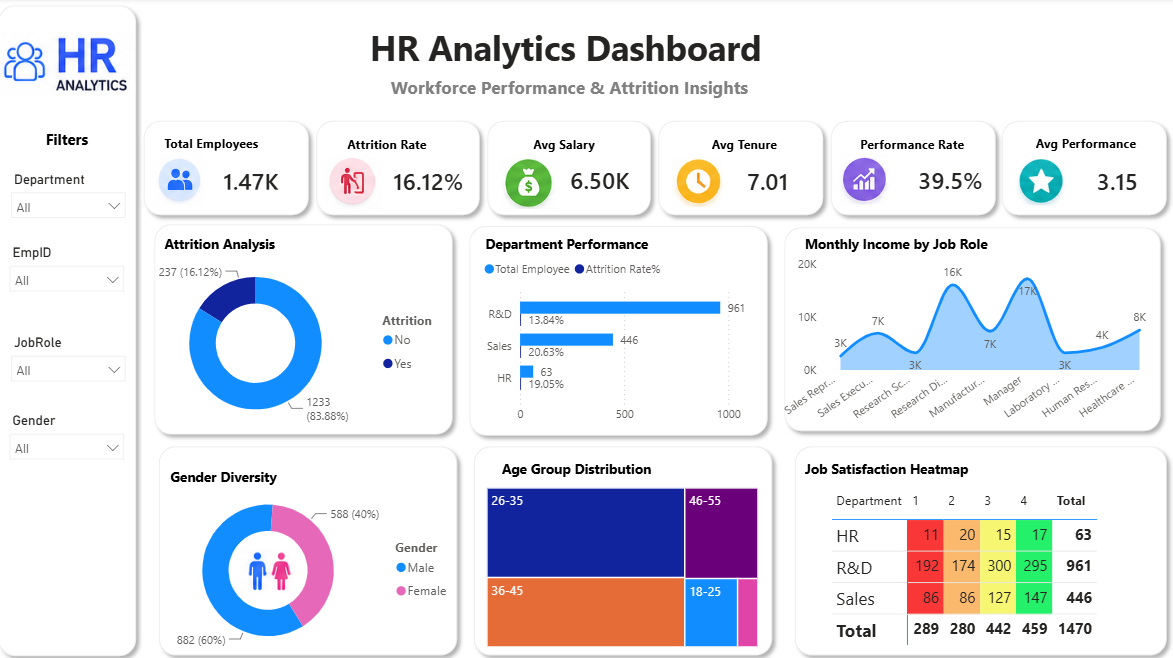

This screenshot's page, from the dashboard's own definition file:
{"tool":"powerbi","page":{"name":"Page 1","canvas":[1280,720],"ordinal":0},"visuals":[{"type":"shape","box":[0,0,166.8,720.6],"z":0},{"type":"textbox","box":[404.7,24.6,470.6,73.7],"z":1000},{"type":"textbox","box":[427.4,79.4,425.2,45.4],"z":2000},{"type":"shape","box":[157.1,124.7,195.9,119.8],"z":3000},{"type":"shape","box":[343.3,124.7,194.3,119.8],"z":4000},{"type":"shape","box":[527.9,124.7,194.3,119.8],"z":5000},{"type":"shape","box":[712.5,124.7,195.9,119.8],"z":6000},{"type":"shape","box":[898.7,124.7,195.9,119.8],"z":7000},{"type":"shape","box":[1084.1,124.7,195.9,119.8],"z":8000},{"type":"textbox","box":[183.3,141.7,117.2,28.3],"z":9000},{"type":"textbox","box":[380.5,144.1,118.2,29.1],"z":10000},{"type":"textbox","box":[581.3,144.1,116.6,29.1],"z":11000},{"type":"textbox","box":[774,144.1,118.2,29.1],"z":12000},{"type":"textbox","box":[1123.7,142.5,137.6,34],"z":13000},{"type":"textbox","box":[934.3,144.1,147.3,29.1],"z":14000},{"type":"cardVisual","fields":{"Data":["Measure.Total Employee"]},"box":[220.2,170,123.1,55.1],"z":15000},{"type":"cardVisual","fields":{"Data":["Measure.Attrition Rate%"]},"box":[406.4,161.9,145.7,69.6],"z":16000},{"type":"cardVisual","fields":{"Data":["Measure.Promotion Rate%"]},"box":[973.2,160.3,131.2,72.9],"z":17000},{"type":"cardVisual","fields":{"Data":["Avg(HR_Analytics.YearsAtCompany)"]},"box":[788.6,144.1,25.9,92.3],"z":18000},{"type":"cardVisual","fields":{"Data":["Avg(HR_Analytics.MonthlyIncome)"]},"box":[597.5,155.4,124.7,81],"z":19000},{"type":"cardVisual","fields":{"Data":["Avg(HR_Analytics.PerformanceRating)"]},"box":[1165.8,150.6,106.9,92.3],"z":20000},{"type":"cardVisual","fields":{"Data":["Avg(HR_Analytics.YearsAtCompany)"]},"box":[788.6,163.5,119.8,68],"z":21000},{"type":"image","box":[166.8,170,76.1,55.1],"z":22000},{"type":"image","box":[1104.3,174.9,61.5,50.2],"z":23000},{"type":"image","box":[908.4,170,71.2,54],"z":24000},{"type":"image","box":[725.4,173.3,76.1,53.4],"z":25000},{"type":"image","box":[550.5,173.3,61.5,55.1],"z":26000},{"type":"image","box":[353,173.3,76.1,55.1],"z":27000},{"type":"shape","box":[168,237,340,245],"z":28000},{"type":"donutChart","fields":{"Y":["Measure.Total Employee"],"Category":["HR_Analytics.Attrition"]},"box":[143.6,270.2,355.3,206],"z":29000},{"type":"textbox","box":[183.3,251.3,194.6,45.4],"z":30000},{"type":"shape","box":[508.4,238,340,244.5],"z":31000},{"type":"clusteredBarChart","fields":{"Category":["HR_Analytics.Department"],"Y":["Measure.Total Employee","Measure.Attrition Rate%"]},"box":[527.9,273.6,306,194.3],"z":32000},{"type":"textbox","box":[529.5,251,195.9,45.3],"z":33000},{"type":"shape","box":[848.5,239.6,424.2,238],"z":34000},{"type":"textbox","box":[874.4,251,375.7,45.3],"z":35000},{"type":"areaChart","fields":{"Category":["HR_Analytics.JobRole"],"Y":["Avg(HR_Analytics.MonthlyIncome)"]},"box":[852.3,274,410.1,194.6],"z":36000},{"type":"shape","box":[173.9,476.2,340.2,243.8],"z":37000},{"type":"shape","box":[514,476.2,340.2,243.8],"z":38000},{"type":"shape","box":[859.8,476.2,419.5,243.8],"z":39000},{"type":"donutChart","fields":{"Category":["HR_Analytics.Gender"],"Y":["Measure.Total Employee"]},"box":[156.9,515.9,351.5,204.1],"z":40000},{"type":"textbox","box":[548,493.2,194.6,45.4],"z":41000},{"type":"textbox","box":[875,493.2,194.6,54.8],"z":42000},{"type":"textbox","box":[189,502.7,194.6,45.4],"z":43000},{"type":"image","box":[270.2,587.7,58.6,64.3],"z":44000},{"type":"treemap","fields":{"Group":["HR_Analytics.AgeGroup"],"Values":["Measure.Total Employee"]},"box":[531,525.4,302.4,181.4],"z":45000},{"type":"pivotTable","fields":{"Rows":["HR_Analytics.Department"],"Columns":["HR_Analytics.JobSatisfaction"],"Values":["Measure.Total Employee"]},"box":[903.3,525.4,362.8,181.4],"z":46000},{"type":"image","box":[11.3,1.9,143.6,141.7],"z":47000},{"type":"textbox","box":[54.8,138,56.7,35.9],"z":48000},{"type":"slicer","fields":{"Values":["HR_Analytics.Department"]},"box":[12.6,183.3,143.6,68],"z":49000},{"type":"slicer","fields":{"Values":["HR_Analytics.EmpID"]},"box":[12,262.7,143.6,68],"z":50000},{"type":"slicer","fields":{"Values":["HR_Analytics.JobRole"]},"box":[13.2,359.1,143.6,68],"z":51000},{"type":"slicer","fields":{"Values":["HR_Analytics.Gender"]},"box":[11.3,444.1,143.6,68],"z":52000}]}

Visuals, with their boxes in screenshot pixels (x1, y1, x2, y2), scaled from the page's 1280x720 canvas onto the 1173x658 screenshot:
shape: 0,0,153,657
textbox: 371,22,802,90
textbox: 392,73,781,114
shape: 144,114,323,223
shape: 315,114,493,223
shape: 484,114,662,223
shape: 653,114,832,223
shape: 824,114,1003,223
shape: 993,114,1172,223
textbox: 168,129,275,155
textbox: 349,132,457,158
textbox: 533,132,640,158
textbox: 709,132,818,158
textbox: 1030,130,1156,161
textbox: 856,132,991,158
cardVisual - Measure.Total Employee: 202,155,315,206
cardVisual - Measure.Attrition Rate%: 372,148,506,212
cardVisual - Measure.Promotion Rate%: 892,146,1012,213
cardVisual - Avg(HR_Analytics.YearsAtCompany): 723,132,746,216
cardVisual - Avg(HR_Analytics.MonthlyIncome): 548,142,662,216
cardVisual - Avg(HR_Analytics.PerformanceRating): 1068,138,1166,222
cardVisual - Avg(HR_Analytics.YearsAtCompany): 723,149,832,212
image: 153,155,223,206
image: 1012,160,1068,206
image: 832,155,898,205
image: 665,158,734,207
image: 504,158,561,209
image: 323,158,393,209
shape: 154,217,466,440
donutChart - Measure.Total Employee x HR_Analytics.Attrition: 132,247,457,435
textbox: 168,230,346,271
shape: 466,218,777,441
clusteredBarChart - HR_Analytics.Department x Measure.Total Employee: 484,250,764,428
textbox: 485,229,665,271
shape: 778,219,1166,436
textbox: 801,229,1146,271
areaChart - HR_Analytics.JobRole x Avg(HR_Analytics.MonthlyIncome): 781,250,1157,428
shape: 159,435,471,657
shape: 471,435,783,657
shape: 788,435,1172,657
donutChart - HR_Analytics.Gender x Measure.Total Employee: 144,471,466,657
textbox: 502,451,681,492
textbox: 802,451,980,501
textbox: 173,459,352,501
image: 248,537,301,596
treemap - HR_Analytics.AgeGroup x Measure.Total Employee: 487,480,764,646
pivotTable - HR_Analytics.Department x HR_Analytics.JobSatisfaction: 828,480,1160,646
image: 10,2,142,131
textbox: 50,126,102,159
slicer - HR_Analytics.Department: 12,168,143,230
slicer - HR_Analytics.EmpID: 11,240,143,302
slicer - HR_Analytics.JobRole: 12,328,144,390
slicer - HR_Analytics.Gender: 10,406,142,468
